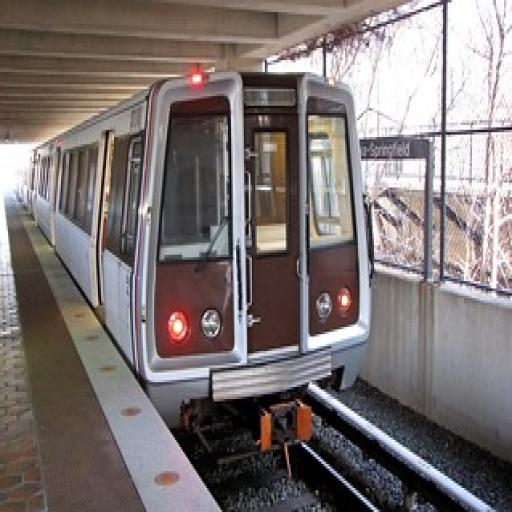platform_edge: (0, 203, 218, 512)
